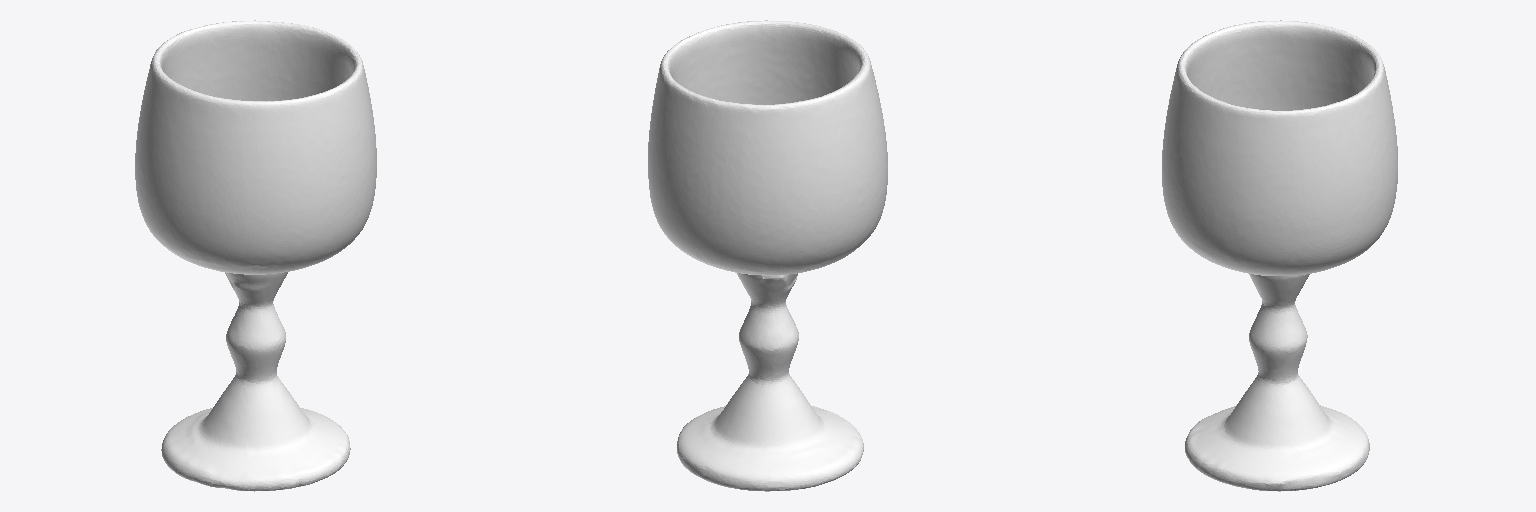
robot.urdf — model.urdf:
<robot name="model.urdf">
    <link name="baseLink">
        <contact>
            <lateral_friction value="0.42"/>
            <rolling_friction value="1"/>
            <spinning_friction value="1"/>
            <contact_cfm value="0.0"/>
            <contact_erp value="1.0"/>
        </contact>
        <inertial>
            <origin rpy="0 0 0" xyz="0 0.0 0.03"/>
            <mass value=".5"/>
            <inertia ixx="1e-3" ixy="0" ixz="0" iyy="1e-3" iyz="0" izz="1e-3"/>
        </inertial>
        <visual>
            <geometry>
                <mesh filename="nontextured.stl" scale="1 1 1"/>
            </geometry>
            <material name="white">
                <color rgba="1 1 1 1"/>
            </material>
        </visual>
        <collision>
            <geometry>
                <mesh filename="nontextured.stl" scale="1 1 1"/>
            </geometry>
        </collision>
    </link>
</robot>

--- Render facts (derived) ---
The picture shows the robot from 3 angles, left to right: view 1: azimuth 30°, elevation 25°; view 2: azimuth 150°, elevation 25°; view 3: azimuth 270°, elevation 25°; orthographic projection.
Model model.urdf with 1 links and 0 joints (none), rooted at baseLink, posed every joint at zero.
Visible links, largest first — view 1: baseLink; view 2: baseLink; view 3: baseLink.
Link boxes in pixels (x1=…): baseLink: x1=135, y1=20, x2=376, y2=491; baseLink: x1=648, y1=20, x2=887, y2=491; baseLink: x1=1162, y1=20, x2=1397, y2=491.
Size in the robot's own frame: 0.0743 by 0.0731 by 0.134 metres.
Meshes: 1 distinct files referenced, 1 mesh visuals loaded (1 binary STL).